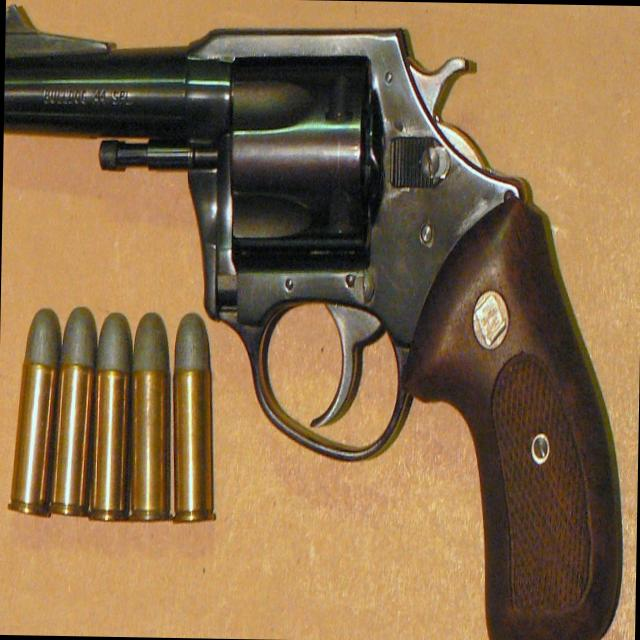Gun: (0, 14, 629, 640)
